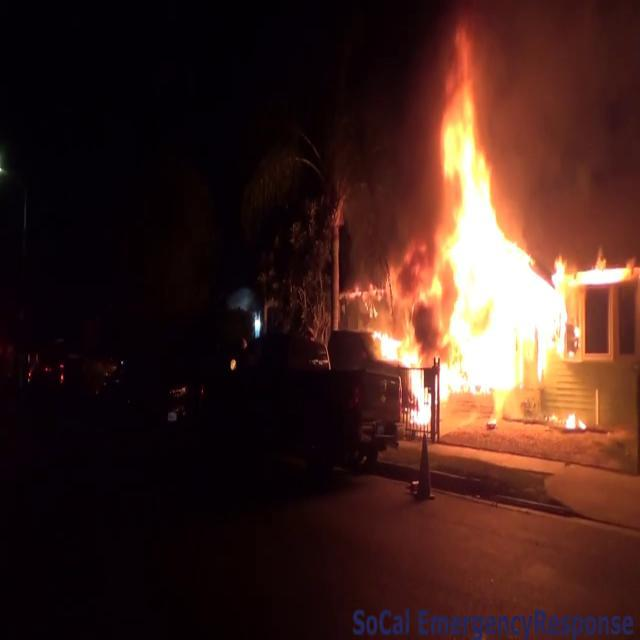Fire: (367, 55, 579, 425)
